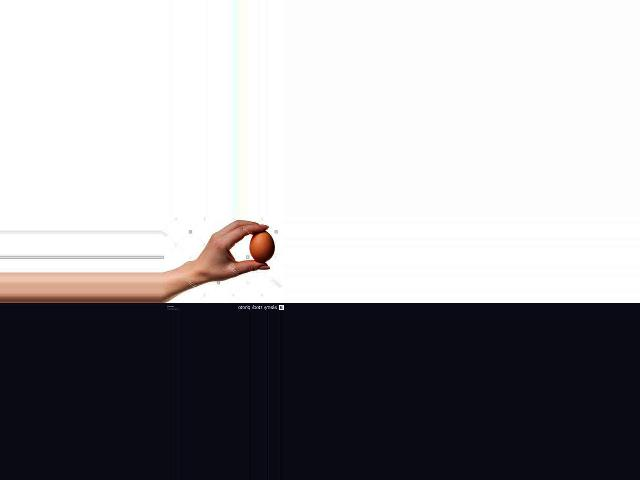egg: (247, 231, 274, 263)
